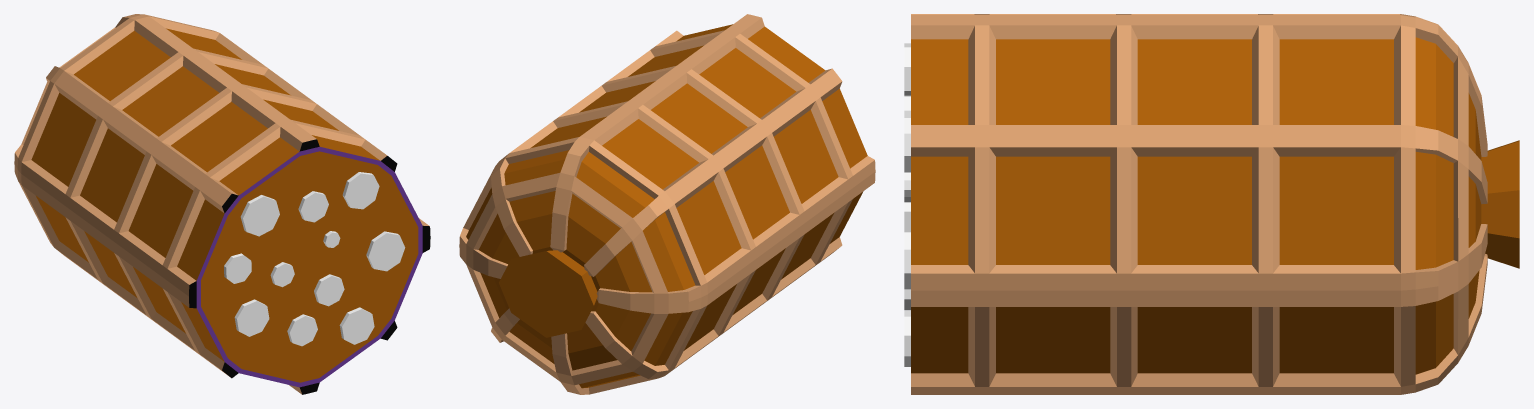
The model's file is Meat Salami 03.fbx.
3 views of the same model, side by side, from view 1: azimuth 30°, elevation 25°; view 2: azimuth 150°, elevation 25°; view 3: azimuth 270°, elevation 25° (orthographic). The views are drawn at different scales.
Visible parts, largest first — view 1: Meat Salami 03; view 2: Meat Salami 03; view 3: Meat Salami 03.
Boxes of the visible parts, left/top/right/bottom form: Meat Salami 03: left=14, top=14, right=430, bottom=394; Meat Salami 03: left=459, top=14, right=875, bottom=394; Meat Salami 03: left=904, top=14, right=1519, bottom=394.
Size of the model in its own units: 35.26 by 35.17 by 53.25.
